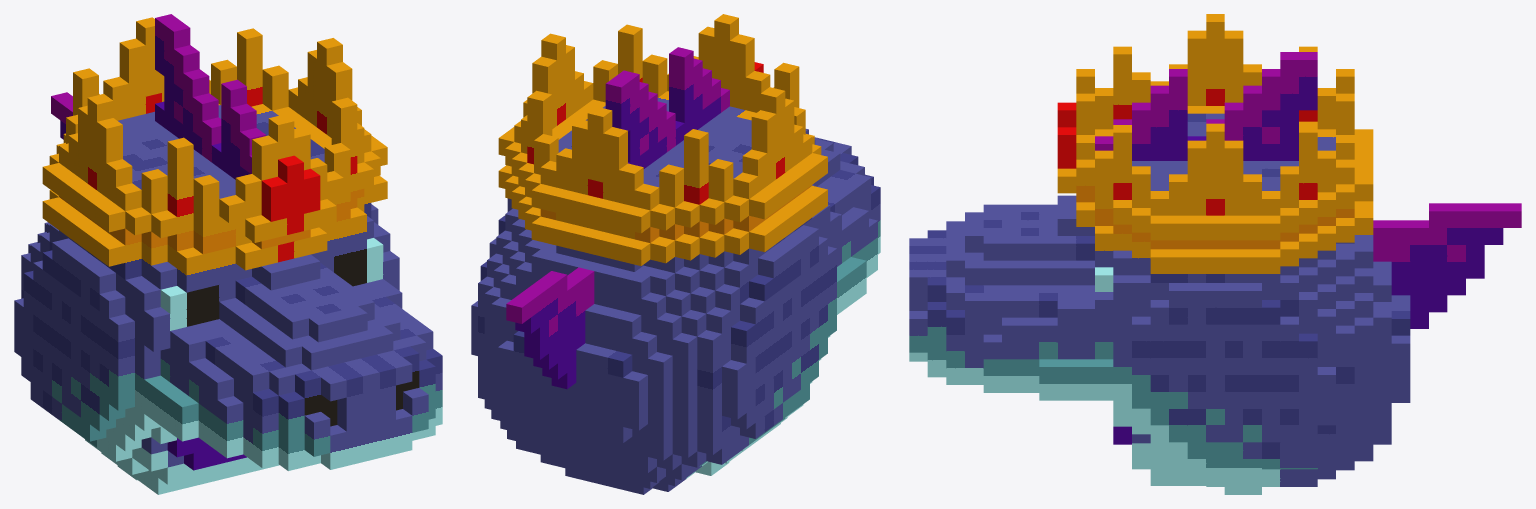
Rendered from king crown_eye patch.gltf.
3 renders of one model, left to right at view 1: azimuth 30°, elevation 25°; view 2: azimuth 150°, elevation 25°; view 3: azimuth 270°, elevation 25°, orthographic. The views are drawn at different scales.
Parts seen in each view (by area): view 1: C33_H_KingCrown_Skydiving_EyePatch-Mesh; view 2: C33_H_KingCrown_Skydiving_EyePatch-Mesh; view 3: C33_H_KingCrown_Skydiving_EyePatch-Mesh.
Boxes of the visible parts, left/top/right/bottom form: C33_H_KingCrown_Skydiving_EyePatch-Mesh: left=14, top=14, right=442, bottom=494; C33_H_KingCrown_Skydiving_EyePatch-Mesh: left=471, top=14, right=880, bottom=494; C33_H_KingCrown_Skydiving_EyePatch-Mesh: left=909, top=14, right=1521, bottom=494.
Bounding box in the file's own units: 17 × 24 × 33.
1 material, 1 textured.
